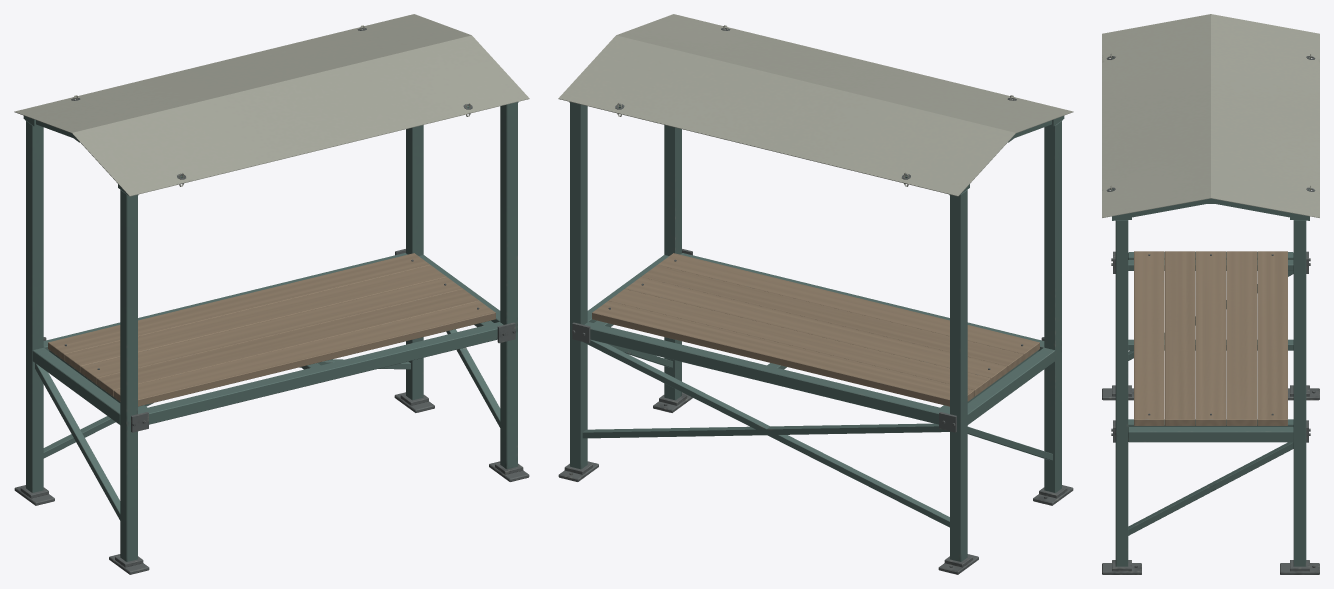
Rendered from market_stall_covered.glb.
3 views of the same model, side by side, from view 1: azimuth 30°, elevation 25°; view 2: azimuth 150°, elevation 25°; view 3: azimuth 270°, elevation 25° (orthographic). The views are drawn at different scales.
Parts seen in each view (by area): view 1: MarketStallCovered; view 2: MarketStallCovered; view 3: MarketStallCovered.
Boxes of the visible parts, box(x1,y1,x2,y2) form: MarketStallCovered: box(14, 14, 529, 574); MarketStallCovered: box(558, 14, 1073, 574); MarketStallCovered: box(1102, 14, 1319, 574).
Size of what is drawn, in the model's own units: 2.4 by 2.3 by 1.2.
1 material, 1 textured.
